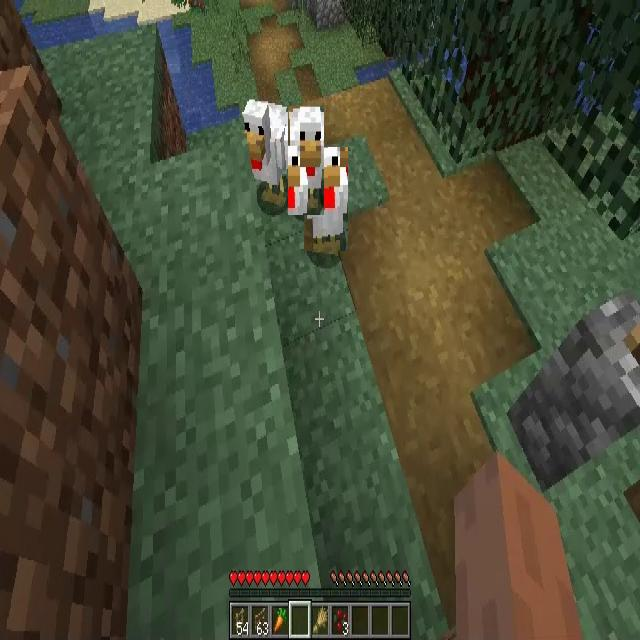duck: (244, 99, 289, 208), (304, 147, 348, 251), (288, 106, 324, 215)
